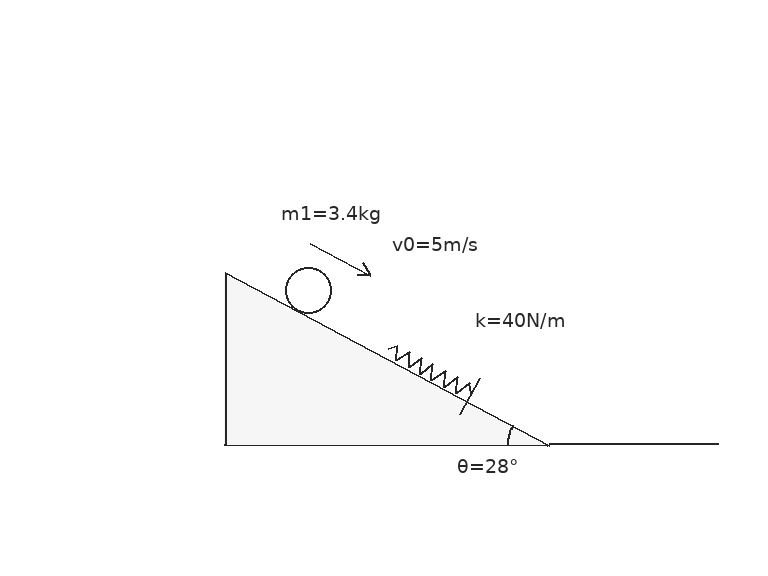ball: (283, 265, 333, 315)
ramp: (223, 270, 550, 446)
spring: (385, 343, 473, 395)
